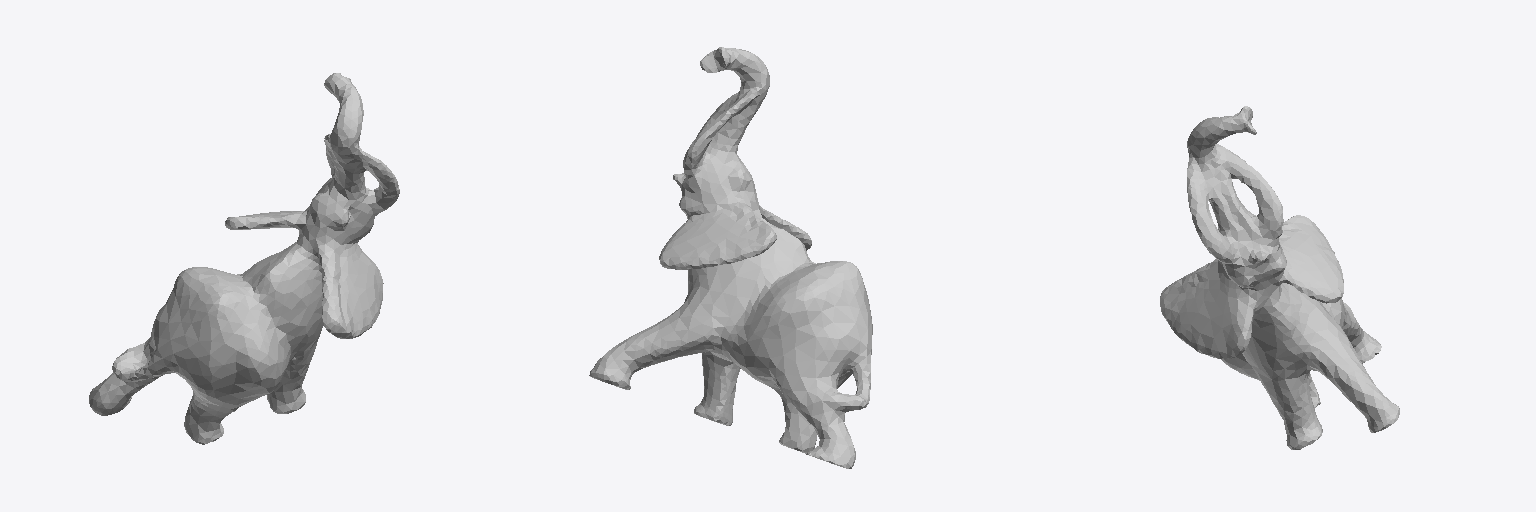
File: elephant.obj
3 views of the same model, side by side, from view 1: azimuth 30°, elevation 25°; view 2: azimuth 150°, elevation 25°; view 3: azimuth 270°, elevation 25° (orthographic).
Bounding box in the file's own units: 0.7204 × 1 × 0.603.